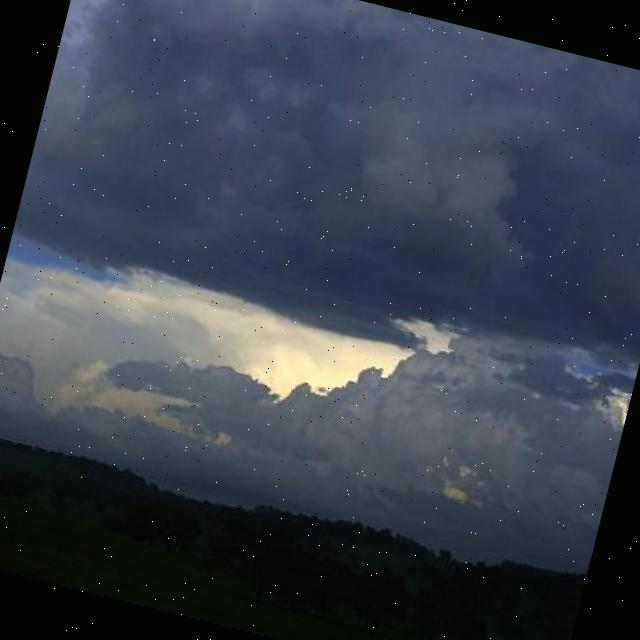St: (7, 1, 640, 411)
